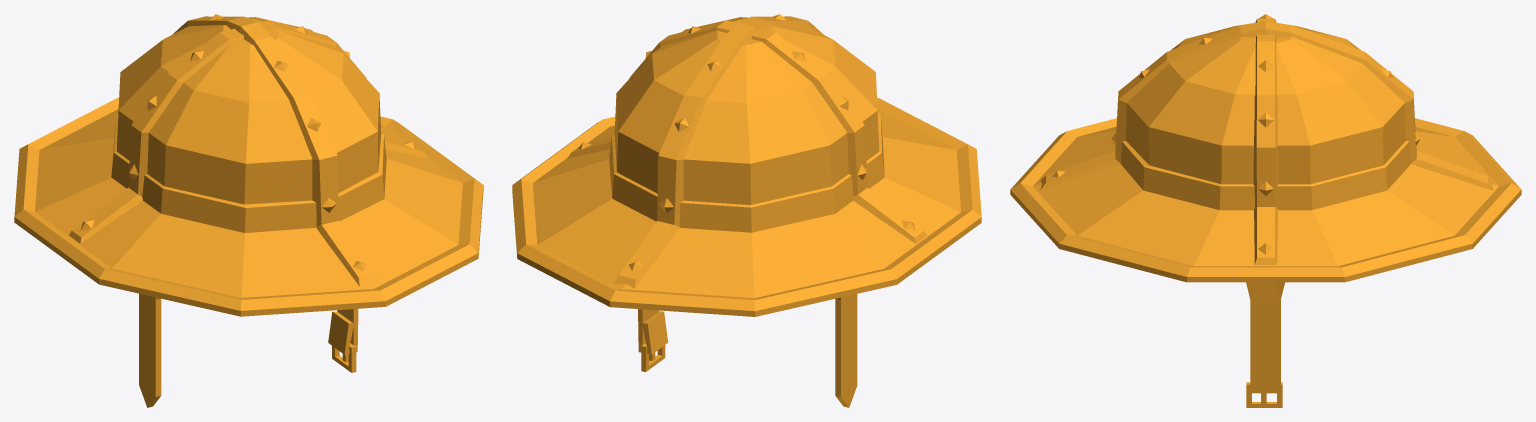
The model's file is SM_Helmet_Kattle_Hat_A.fbx.
The picture shows the model from 3 angles, left to right: view 1: azimuth 30°, elevation 25°; view 2: azimuth 150°, elevation 25°; view 3: azimuth 270°, elevation 25°; orthographic projection. The views are drawn at different scales.
Parts seen in each view (by area): view 1: helmet-kattle-hat-a; view 2: helmet-kattle-hat-a; view 3: helmet-kattle-hat-a.
Boxes of the visible parts, x1,y1,x2,y2 form: helmet-kattle-hat-a: (14, 14, 483, 407); helmet-kattle-hat-a: (512, 14, 981, 407); helmet-kattle-hat-a: (1010, 14, 1521, 407).
Size of the model in its own units: 0.336 by 0.3033 by 0.4144.
